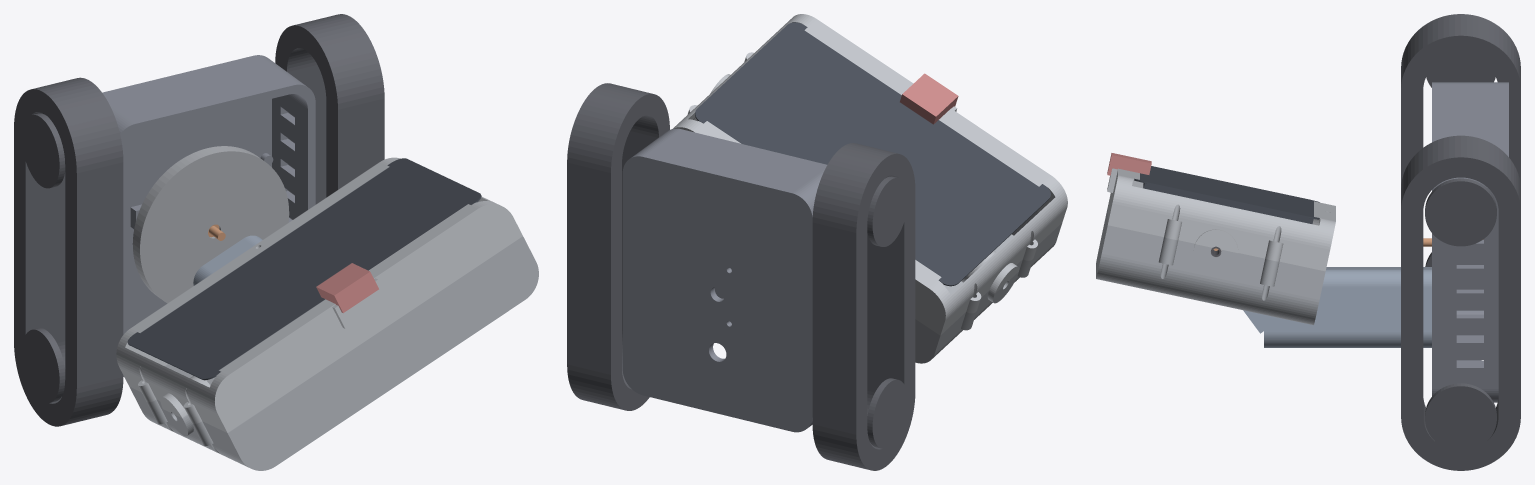
The model's file is assembly.glb.
3 views of the same model, side by side, from view 1: azimuth 30°, elevation 25°; view 2: azimuth 150°, elevation 25°; view 3: azimuth 270°, elevation 25° (orthographic). The views are drawn at different scales.
Parts seen in each view (by area): view 1: track_L, head_bezel, screen_ref, chassis, head_back, pan_platform, track_R, camera_ref, neck_clevis; view 2: chassis, screen_ref, track_L, track_R, head_bezel, head_back, camera_ref; view 3: track_R, chassis, head_back, head_bezel, track_L, neck_clevis, screen_ref, camera_ref.
Part boxes in pixels (box(x1,y1,x2,y2)): track_L: box(14, 77, 123, 426); head_bezel: box(116, 157, 522, 432); screen_ref: box(127, 158, 481, 380); chassis: box(102, 55, 315, 376); head_back: box(129, 236, 538, 470); pan_platform: box(132, 146, 289, 303); track_R: box(275, 14, 384, 219); camera_ref: box(316, 263, 378, 312); neck_clevis: box(193, 235, 262, 285); chassis: box(622, 128, 827, 432); screen_ref: box(695, 22, 1050, 286); track_L: box(812, 143, 915, 470); track_R: box(567, 83, 669, 410); head_bezel: box(673, 14, 1067, 335); head_back: box(915, 211, 1062, 363); camera_ref: box(900, 73, 958, 124); track_R: box(1401, 135, 1520, 470); chassis: box(1432, 82, 1508, 402); head_back: box(1096, 208, 1325, 325); head_bezel: box(1107, 168, 1335, 271); track_L: box(1401, 14, 1520, 266); neck_clevis: box(1243, 267, 1431, 347); screen_ref: box(1134, 166, 1319, 223); camera_ref: box(1107, 153, 1151, 175).
Bounding box in the file's own units: 213 × 202 × 248.
